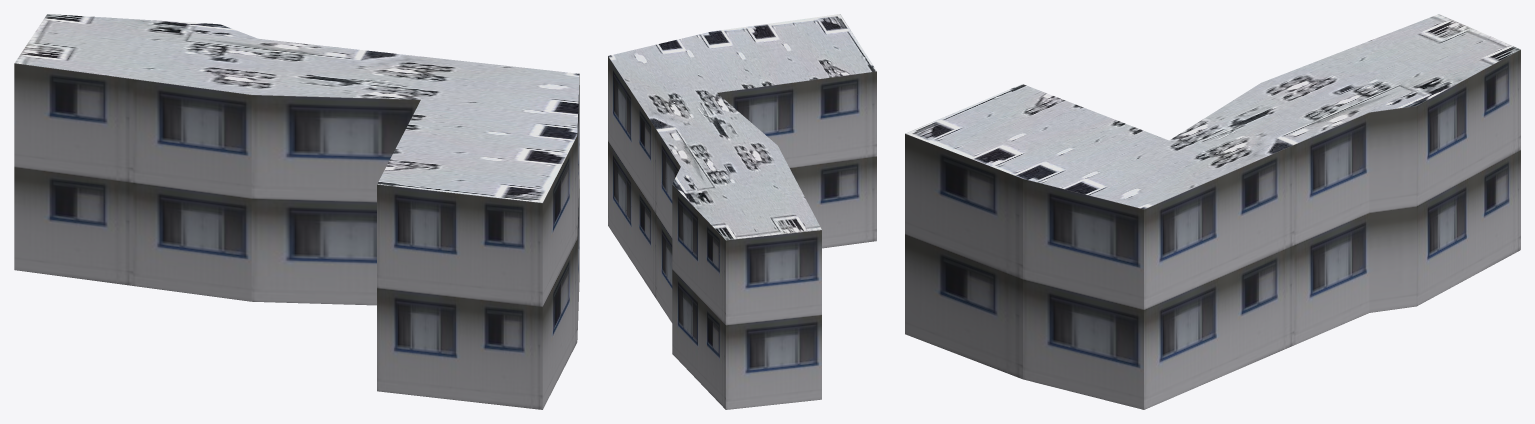
The model's file is ResTex__1571.fbx.
3 views of the same model, side by side, from view 1: azimuth 30°, elevation 25°; view 2: azimuth 150°, elevation 25°; view 3: azimuth 270°, elevation 25° (orthographic). The views are drawn at different scales.
Parts seen in each view (by area): view 1: CityEngineMaterial_9_m, CityEngineMaterial_2_m; view 2: CityEngineMaterial_9_m, CityEngineMaterial_2_m; view 3: CityEngineMaterial_9_m, CityEngineMaterial_2_m.
Boxes of the visible parts, x1,y1,x2,y2 form: CityEngineMaterial_9_m: (14, 63, 579, 409); CityEngineMaterial_2_m: (14, 14, 579, 202); CityEngineMaterial_9_m: (608, 56, 876, 409); CityEngineMaterial_2_m: (608, 14, 876, 240); CityEngineMaterial_9_m: (905, 49, 1520, 409); CityEngineMaterial_2_m: (905, 14, 1520, 209).
Size of the model in its own units: 12.53 by 6 by 16.69.
2 materials, 2 textured.
